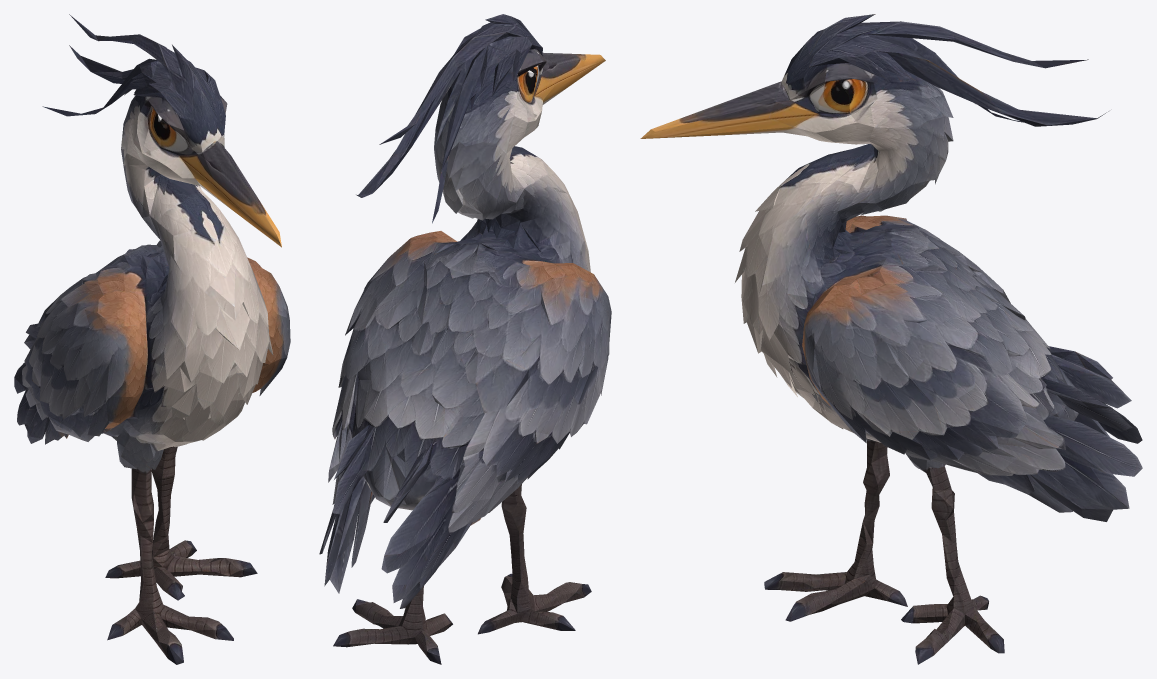
The model's file is heron.glb.
3 renders of one model, left to right at view 1: azimuth 30°, elevation 25°; view 2: azimuth 150°, elevation 25°; view 3: azimuth 270°, elevation 25°, orthographic. The views are drawn at different scales.
Size of the model in its own units: 0.4316 by 1.1 by 0.839.
1 material, 1 textured.
